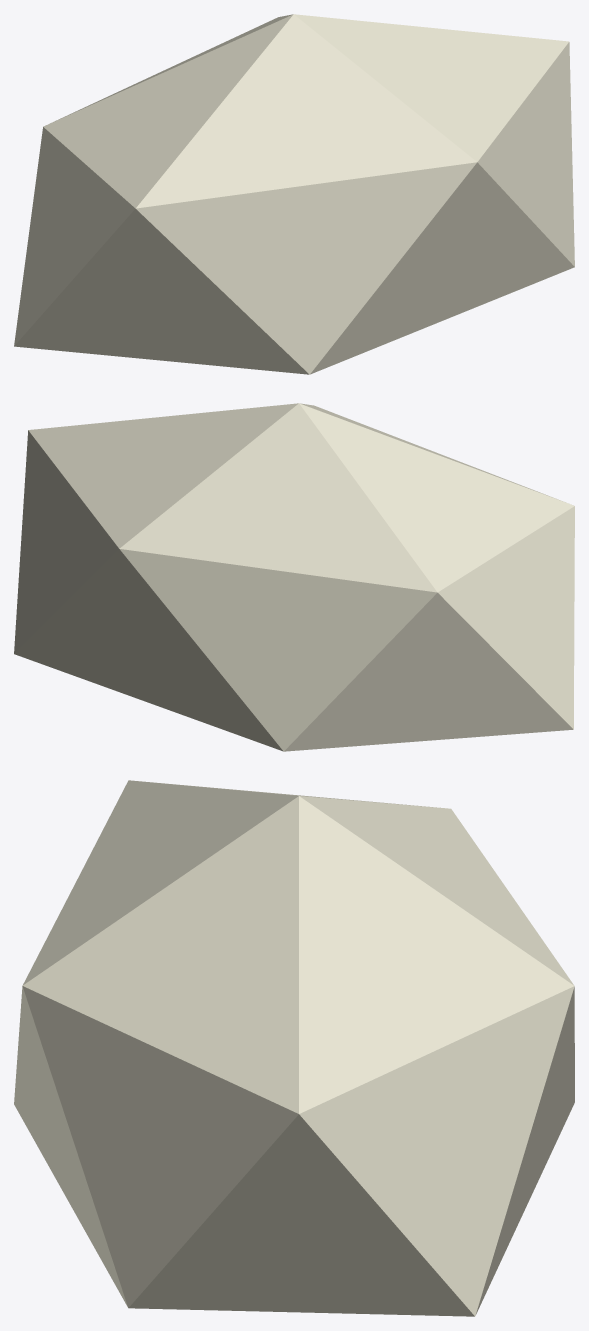
Rendered from item_100_limestone_s.glb.
The picture shows the model from 3 angles, top to bottom: view 1: azimuth 30°, elevation 25°; view 2: azimuth 150°, elevation 25°; view 3: azimuth 270°, elevation 25°; orthographic projection. The views are drawn at different scales.
Visible parts, largest first — view 1: item_100_limestone_s; view 2: item_100_limestone_s; view 3: item_100_limestone_s.
Boxes of the visible parts, x1=… form: item_100_limestone_s: x1=14, y1=14, x2=574, y2=374; item_100_limestone_s: x1=14, y1=403, x2=574, y2=751; item_100_limestone_s: x1=14, y1=780, x2=574, y2=1316.
Size of the model in its own units: 0.3563 by 0.1995 by 0.2244.
